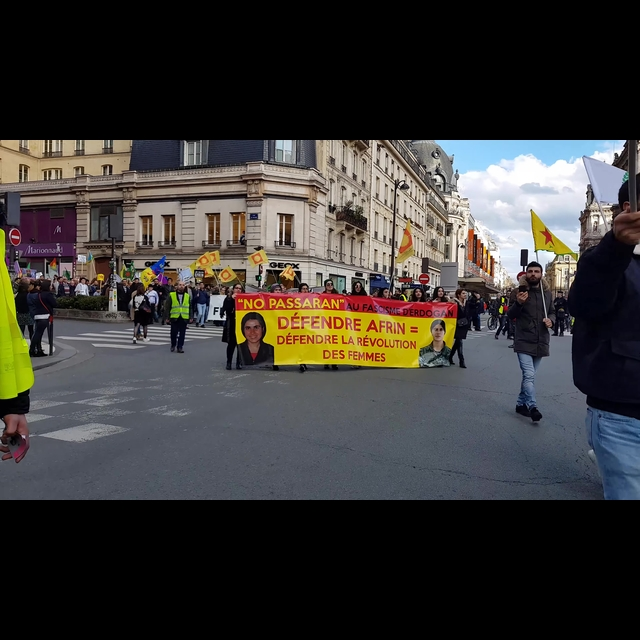YPG: (529, 208, 579, 255)
